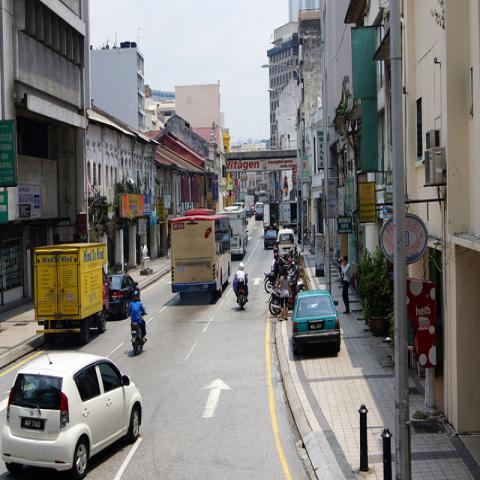bus: (170, 213, 231, 300)
car: (0, 348, 143, 479), (291, 290, 342, 357), (106, 274, 142, 321), (277, 229, 295, 252), (264, 230, 278, 248), (244, 206, 254, 217), (255, 208, 264, 220)
motorcycle: (264, 261, 305, 292), (268, 283, 306, 315), (132, 314, 146, 355), (236, 278, 248, 311)
truck: (33, 242, 110, 346), (264, 201, 281, 235), (282, 202, 298, 230)
